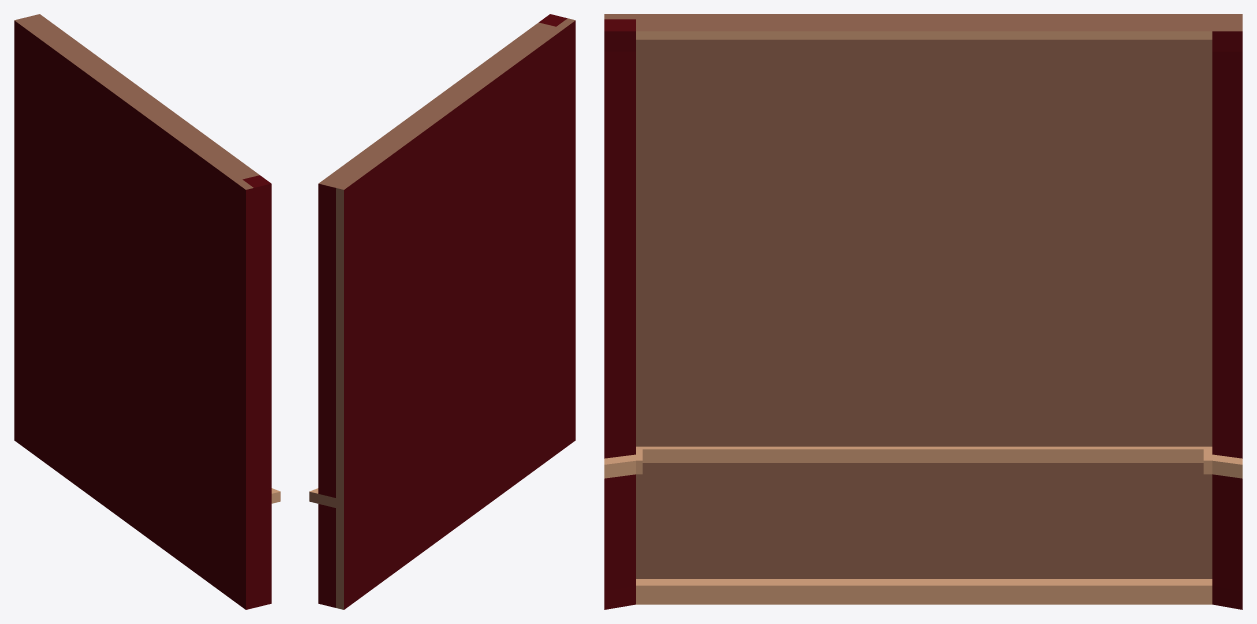
File: ModularWall1_Singlefbx.fbx
3 renders of one model, left to right at view 1: azimuth 30°, elevation 25°; view 2: azimuth 150°, elevation 25°; view 3: azimuth 270°, elevation 25°, orthographic. The views are drawn at different scales.
Parts seen in each view (by area): view 1: Modular_Wall_1; view 2: Modular_Wall_1; view 3: Modular_Wall_1.
Part boxes in pixels (x1,y1,x2,y2): Modular_Wall_1: (14, 14, 280, 609); Modular_Wall_1: (309, 14, 575, 609); Modular_Wall_1: (604, 14, 1242, 609).
Size of the model in its own units: 43.46 by 500 by 500.
